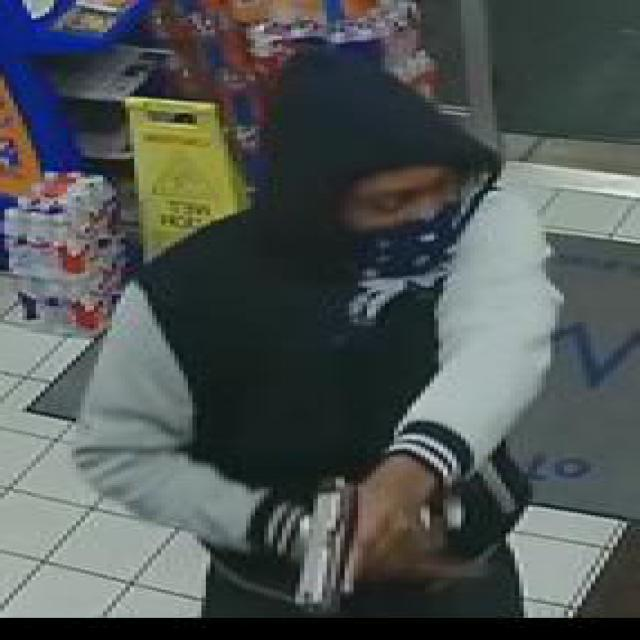Gun: (296, 471, 438, 616)
